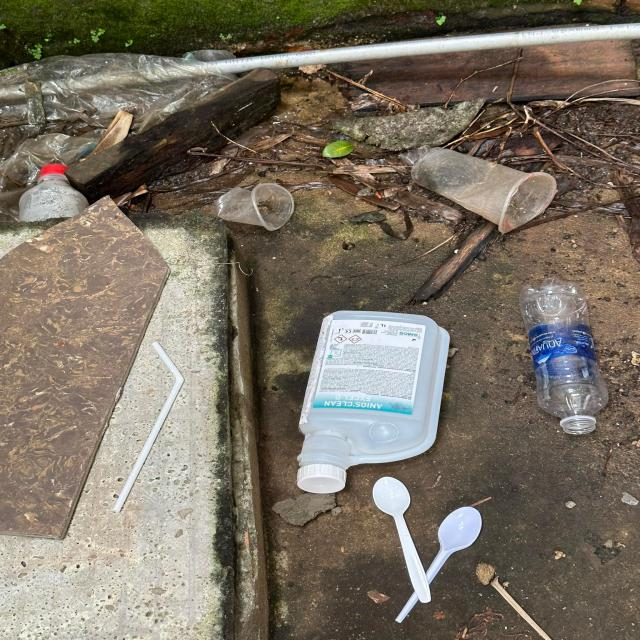bottle: (296, 311, 452, 494), (519, 278, 610, 434), (20, 164, 89, 223)
drinking straw: (114, 340, 186, 512)
plastic glass: (410, 147, 558, 233), (211, 182, 295, 230)
plastic utensil: (394, 506, 483, 624), (373, 476, 432, 603)
